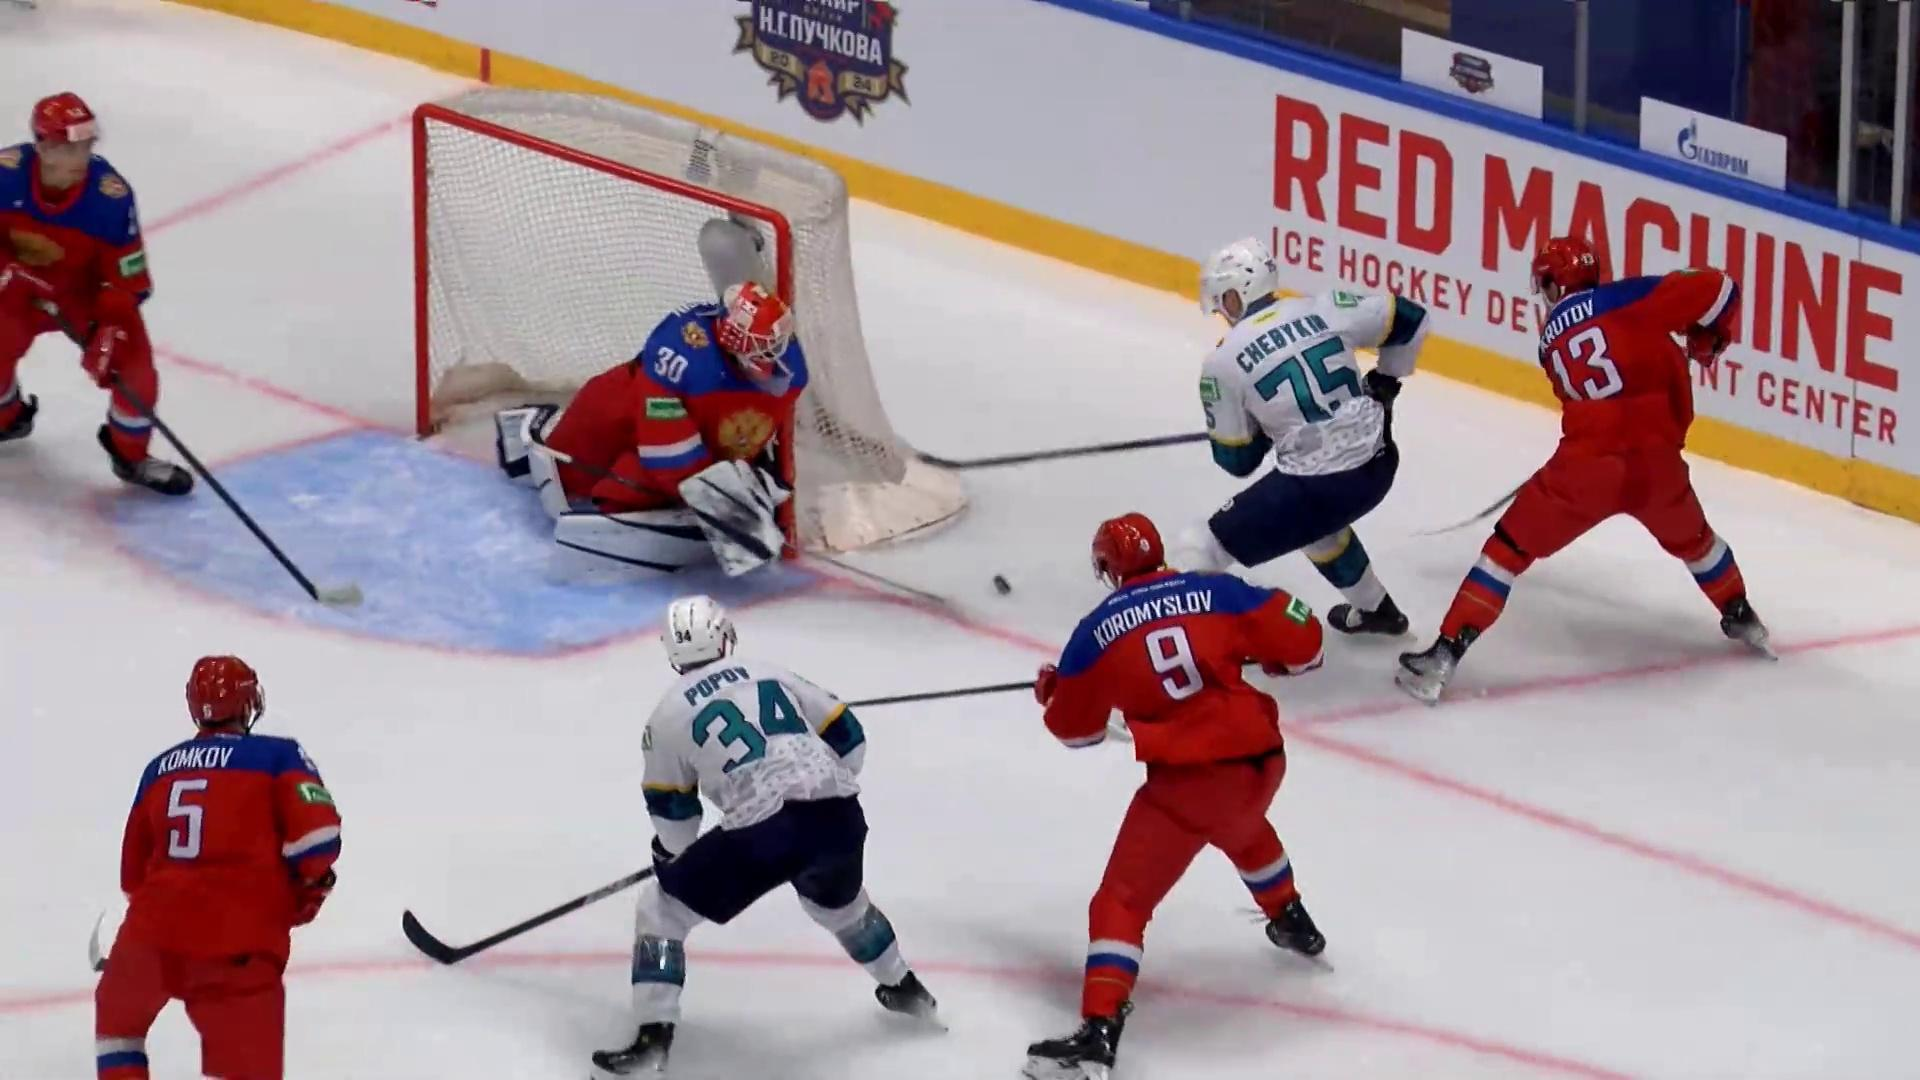ball: (993, 575, 1013, 593)
